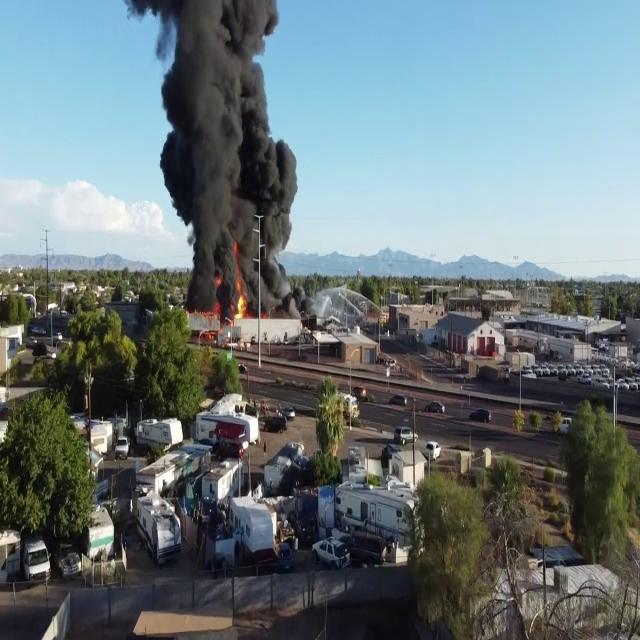Fire: (232, 259, 248, 321)
Smoke: (153, 0, 303, 310)
